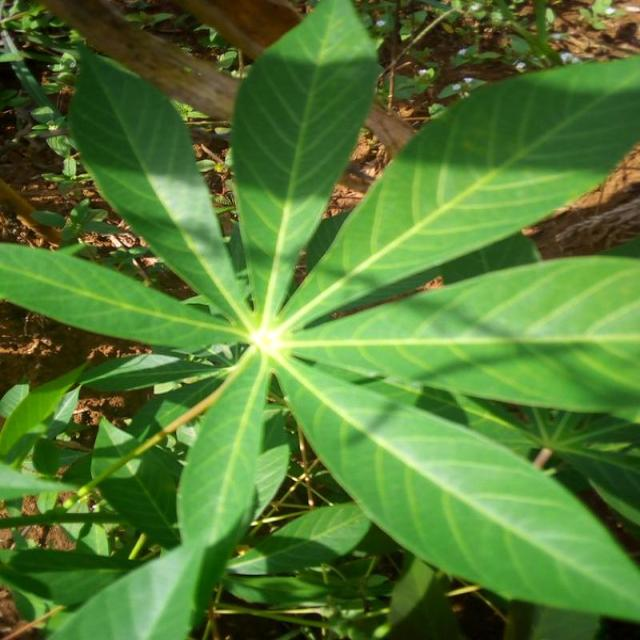cassava leaf: (0, 1, 638, 636), (227, 0, 382, 321)
